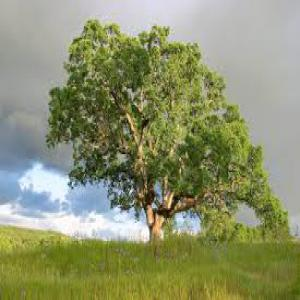Tree: (44, 15, 290, 256)
